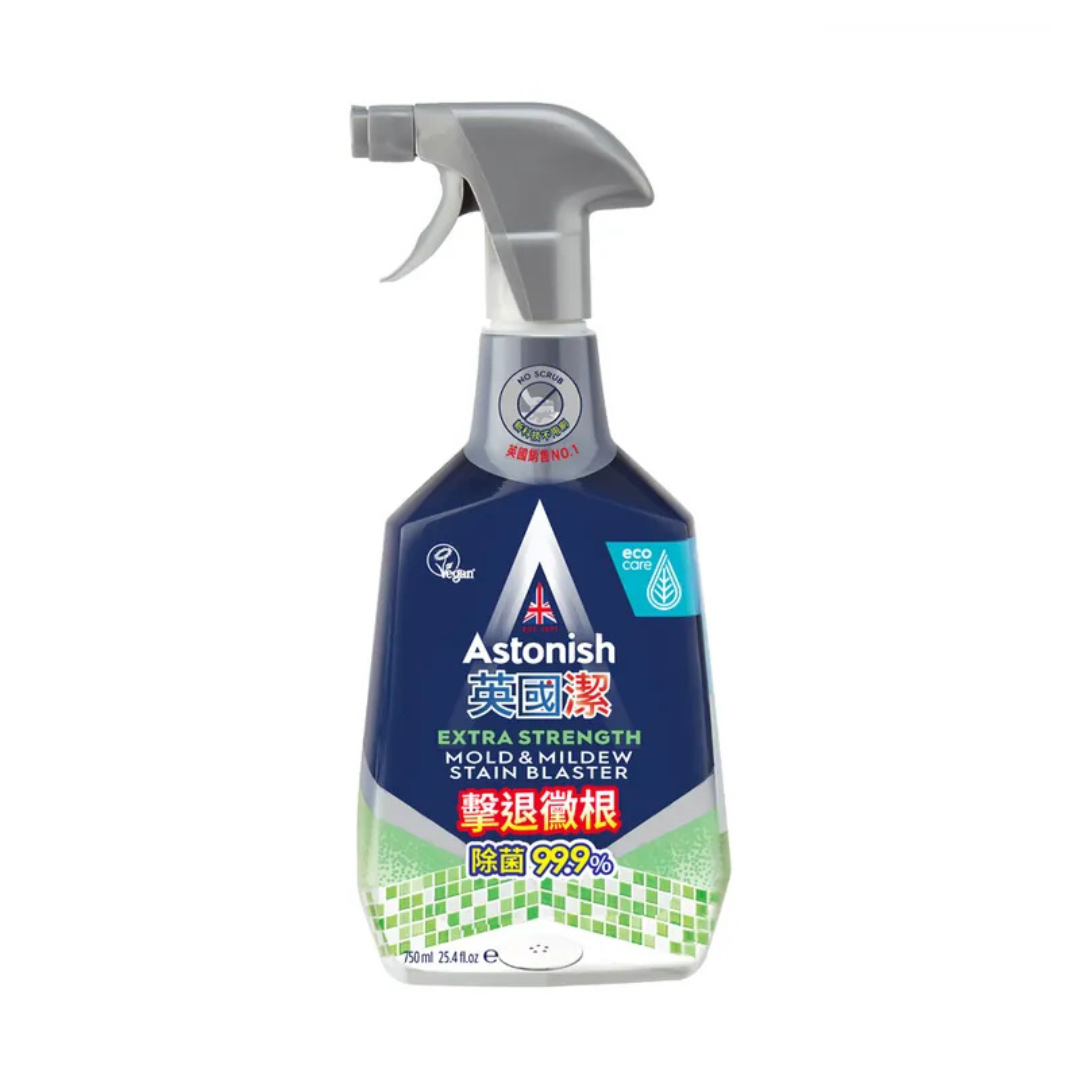cleaner: (333, 96, 744, 994)
